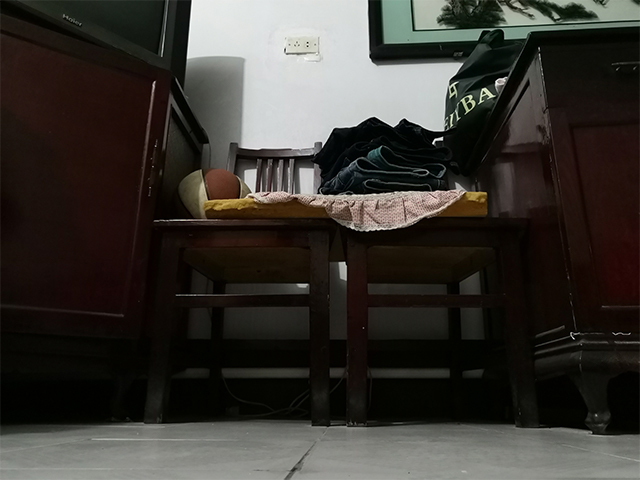cabinet: (1, 9, 213, 424), (459, 22, 640, 437)
stool: (141, 139, 543, 429)
wire: (216, 363, 375, 421)
